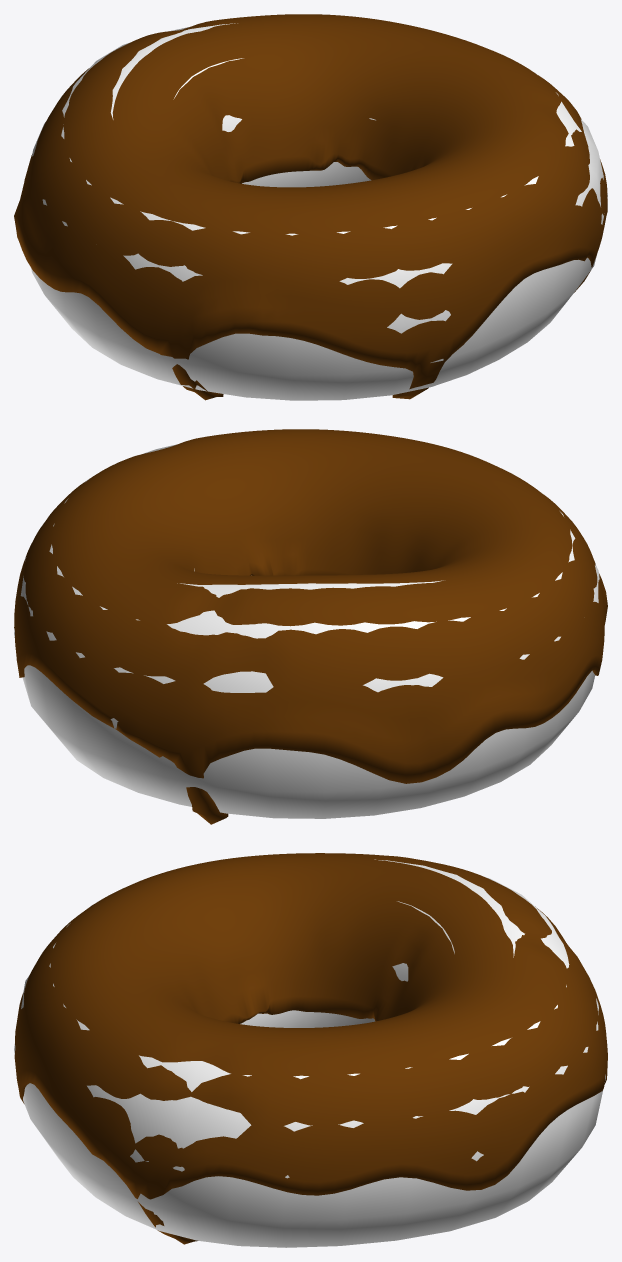
File: chocolate-donut.glb
3 renders of one model, top to bottom at view 1: azimuth 30°, elevation 25°; view 2: azimuth 150°, elevation 25°; view 3: azimuth 270°, elevation 25°, orthographic. The views are drawn at different scales.
Parts seen in each view (by area): view 1: icing, donut; view 2: icing, donut; view 3: icing, donut.
Boxes of the visible parts, x1,y1,x2,y2 form: icing: (14,14,607,400); donut: (31,23,607,400); icing: (14,429,607,824); donut: (14,444,599,818); icing: (14,853,607,1244); donut: (14,859,605,1247).
Bounding box in the file's own units: 2.5 × 1.05 × 2.43.
